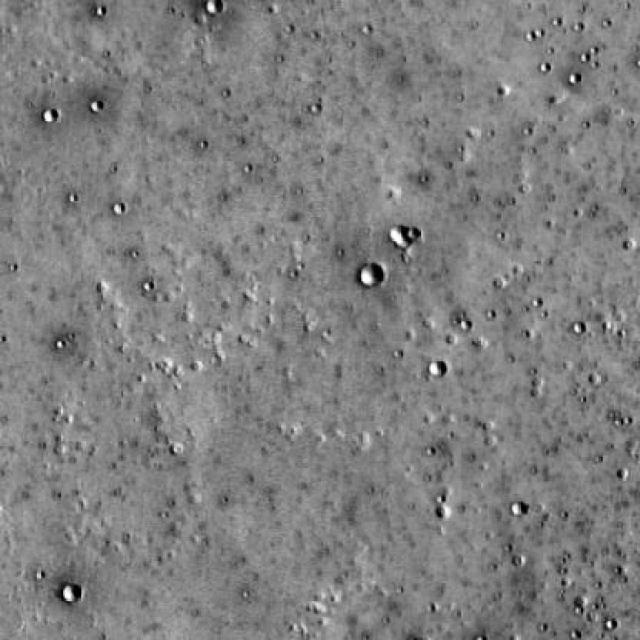crater: (358, 264, 384, 287), (390, 225, 416, 248), (428, 360, 447, 378), (61, 585, 78, 601), (510, 501, 528, 516), (207, 0, 224, 15)
